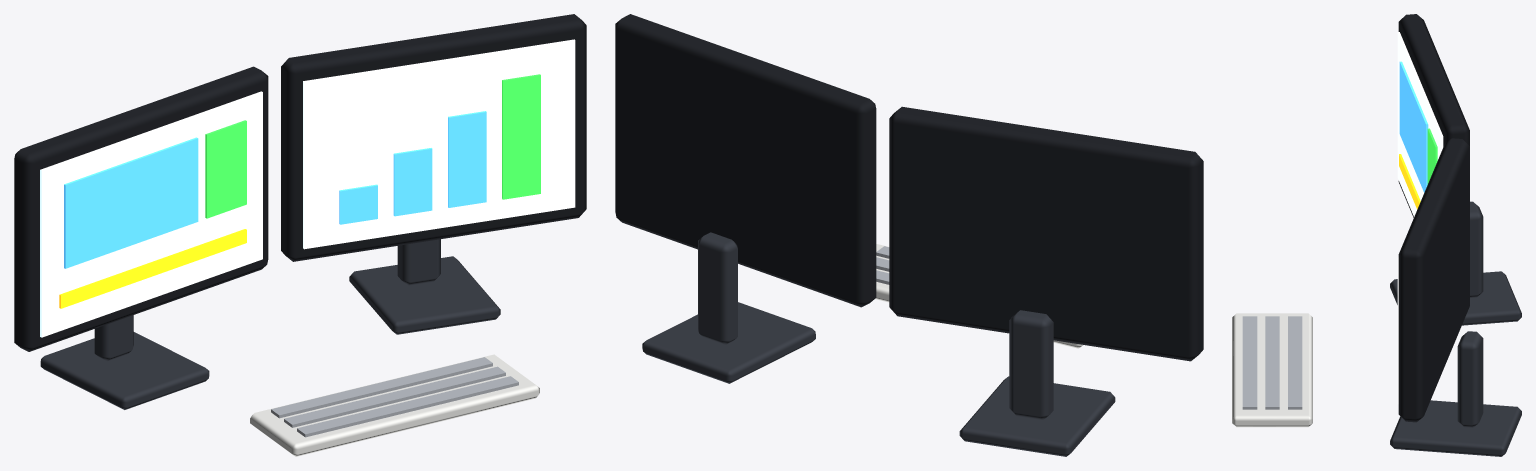
File: station_intake_ausstattung_2_2.glb
The picture shows the model from 3 angles, left to right: view 1: azimuth 30°, elevation 25°; view 2: azimuth 150°, elevation 25°; view 3: azimuth 270°, elevation 25°; orthographic projection. The views are drawn at different scales.
Parts seen in each view (by area): view 1: station_intake_ausstattung_2_2; view 2: station_intake_ausstattung_2_2; view 3: station_intake_ausstattung_2_2.
Boxes of the visible parts, bbox=[...] form: station_intake_ausstattung_2_2: bbox=[14, 14, 586, 456]; station_intake_ausstattung_2_2: bbox=[615, 14, 1203, 456]; station_intake_ausstattung_2_2: bbox=[1232, 14, 1521, 456].
Bounding box in the file's own units: 0.7768 × 0.358 × 0.3942.
